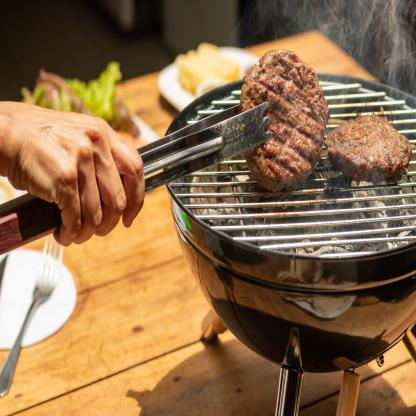Carne: (238, 46, 330, 197), (324, 109, 415, 176)
